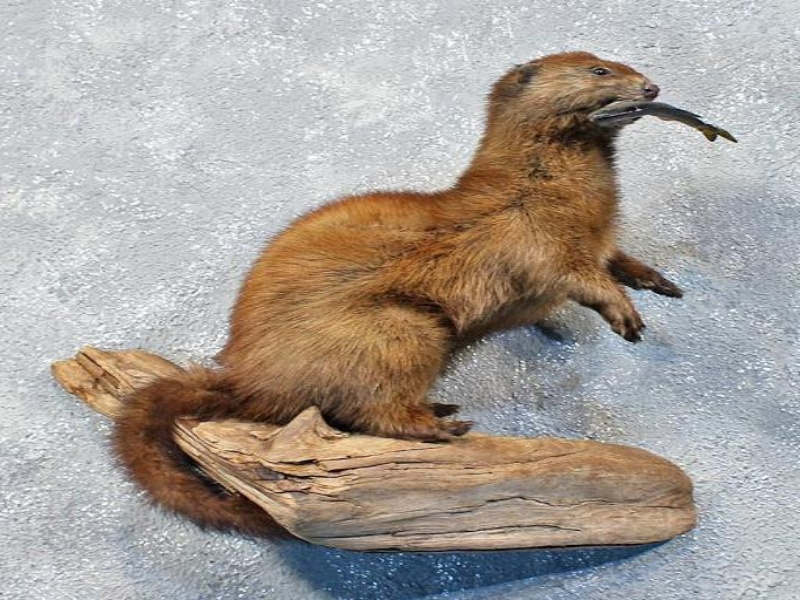minkish: (113, 49, 685, 540)
